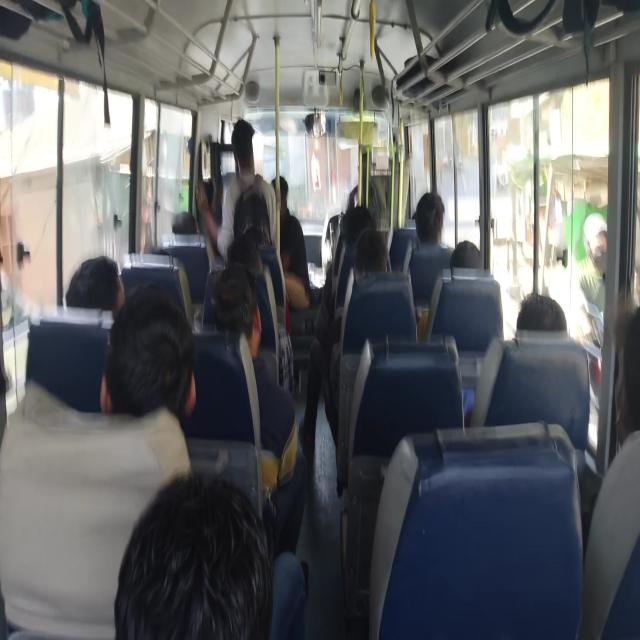person: (0, 281, 196, 638), (114, 469, 307, 639), (210, 262, 307, 556), (578, 303, 640, 638), (298, 205, 375, 452), (100, 282, 196, 425), (195, 118, 280, 264), (408, 190, 454, 340), (270, 175, 311, 309), (65, 254, 124, 318), (580, 212, 607, 316), (516, 292, 568, 334), (414, 191, 446, 248), (449, 240, 481, 270)
